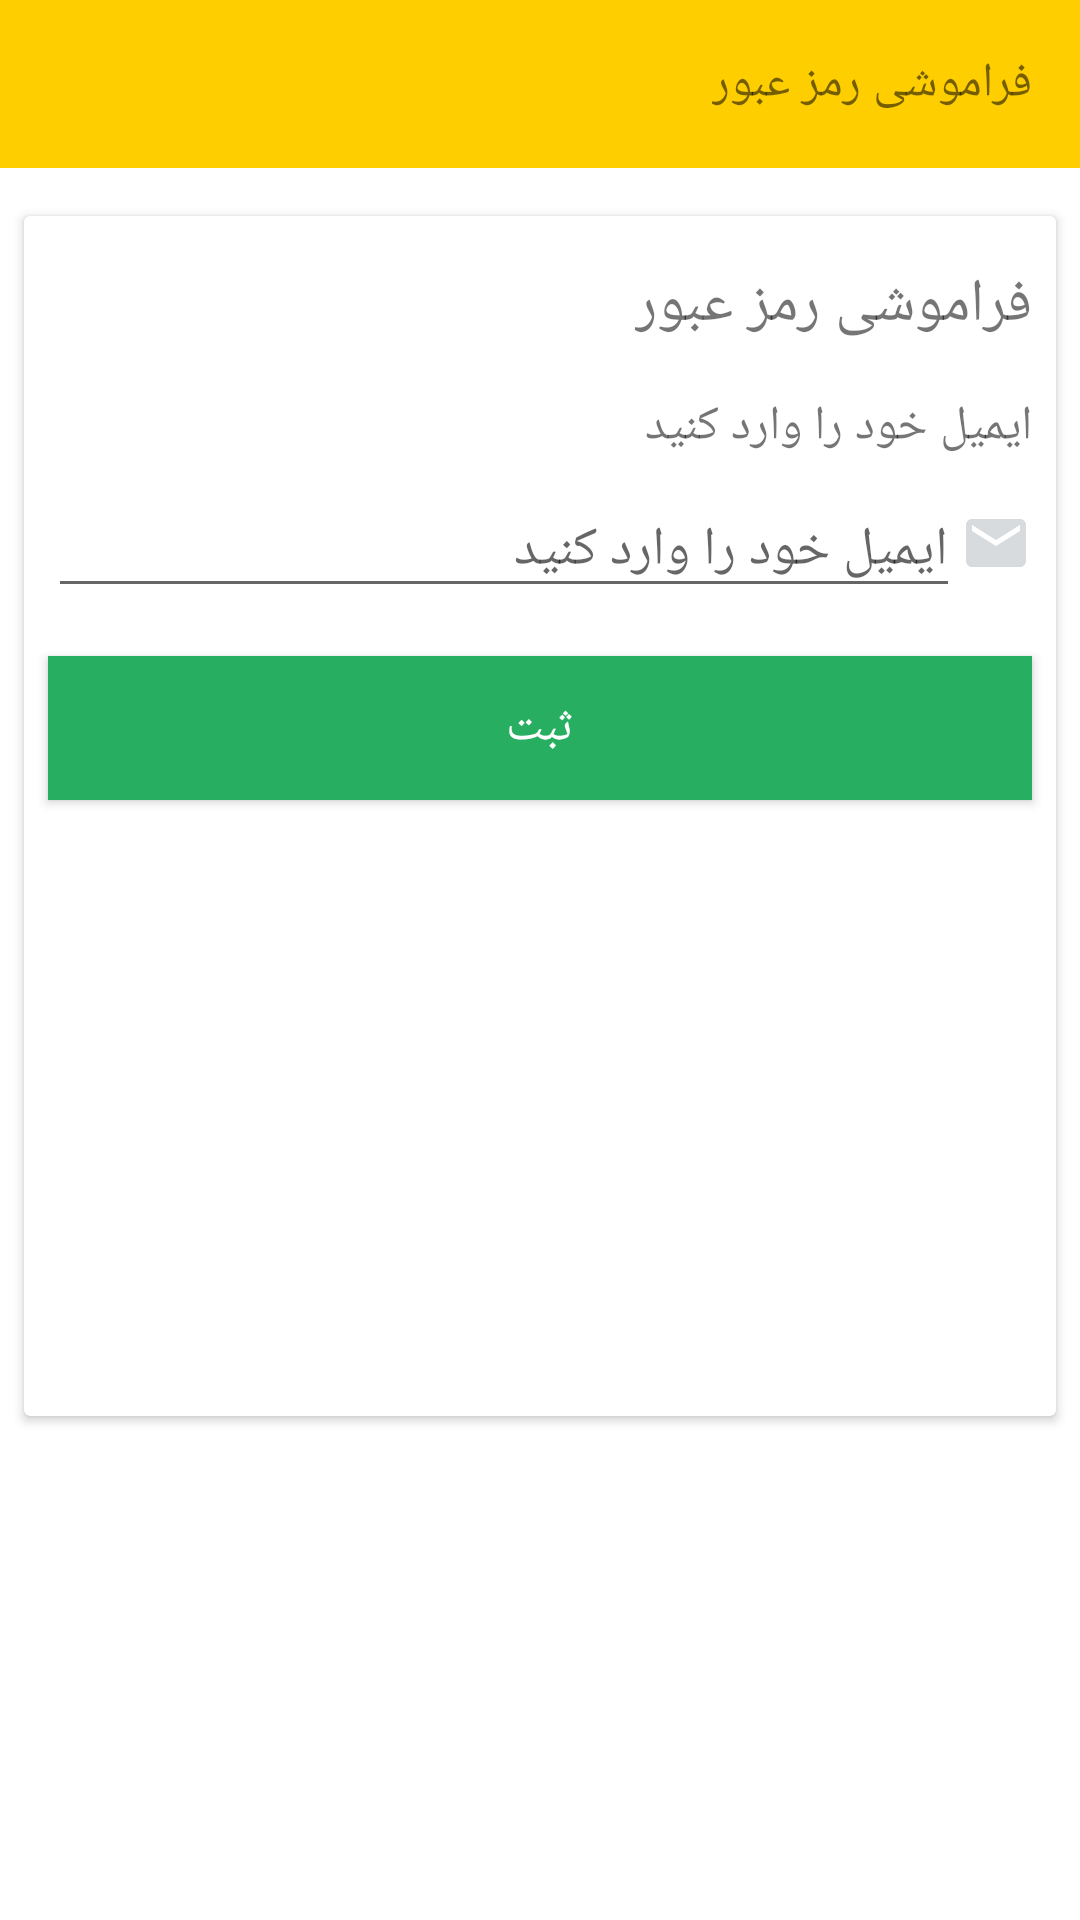

Icon bounding boxes for this 1080x1920 phone screenshot, format (x1, y1, x2, y2):
email: (966, 519, 1026, 567)
